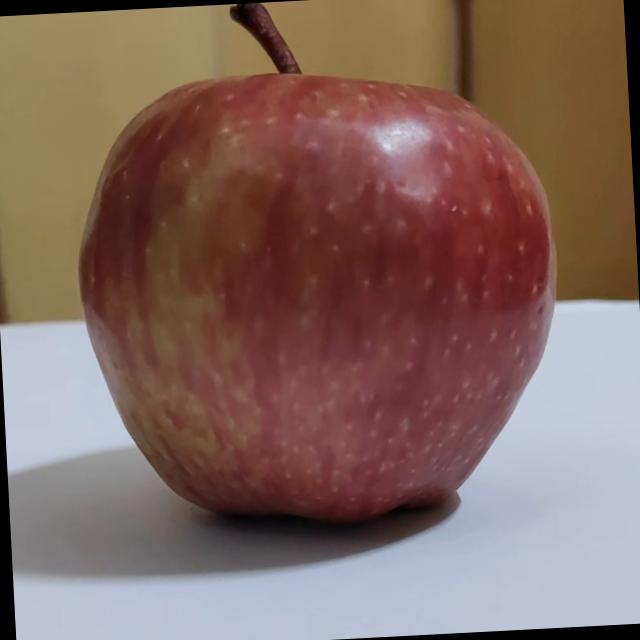apple: (55, 0, 567, 545)
